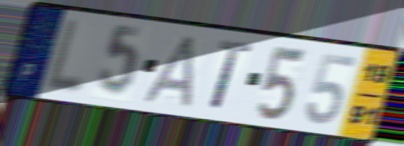5: (253, 42, 312, 123), (96, 22, 147, 104), (304, 50, 359, 126)
A: (140, 32, 199, 110)
L: (41, 16, 88, 98)
T: (208, 37, 256, 114)
